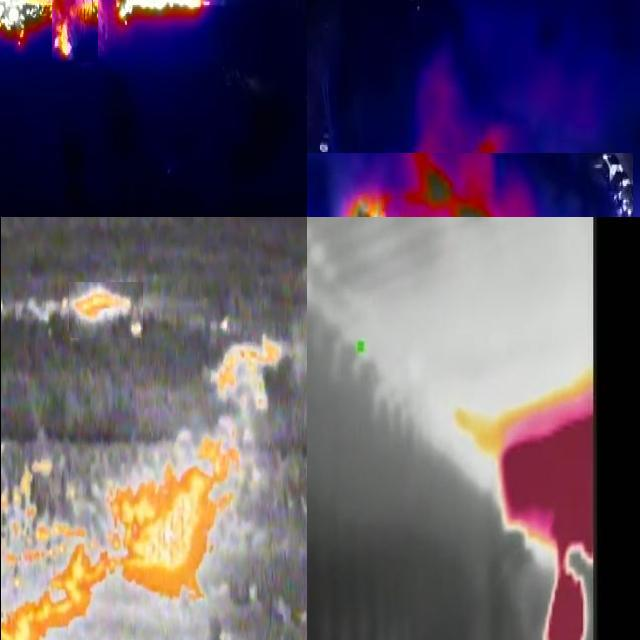fire: (492, 368, 595, 640), (103, 418, 242, 606), (308, 153, 633, 218), (1, 458, 107, 640), (208, 335, 283, 414), (69, 283, 143, 339), (52, 1, 98, 62), (110, 1, 204, 30)
